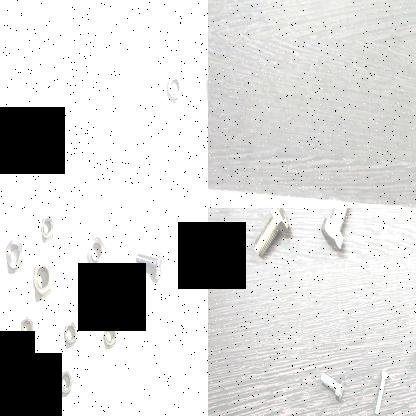Bolts: (250, 208, 293, 261), (128, 240, 168, 287), (318, 208, 352, 262), (317, 368, 347, 402), (372, 369, 393, 416)
NUTS: (31, 260, 54, 300), (165, 68, 185, 113), (85, 233, 105, 278), (121, 267, 141, 309), (38, 364, 58, 402), (0, 380, 24, 411), (4, 236, 24, 272), (59, 320, 79, 350), (19, 314, 37, 344), (40, 212, 56, 244), (102, 319, 118, 350), (56, 370, 74, 395)
